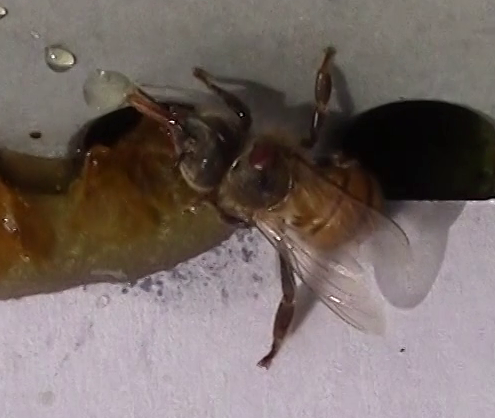Varroa destructor: (243, 140, 282, 173)
